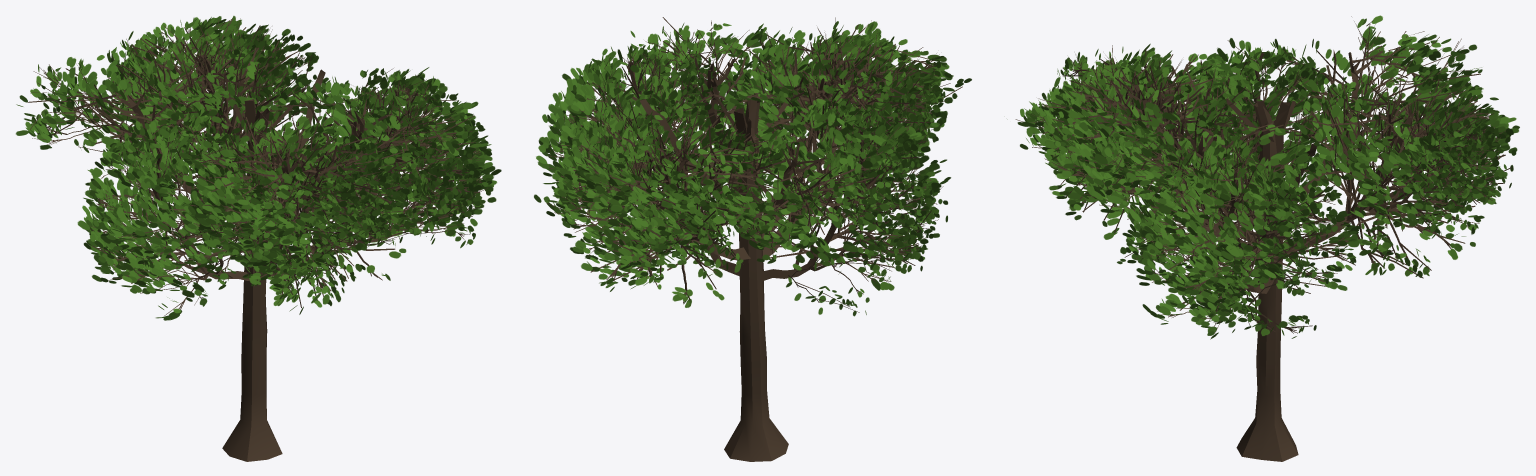
The picture shows the model from 3 angles, left to right: view 1: azimuth 30°, elevation 25°; view 2: azimuth 150°, elevation 25°; view 3: azimuth 270°, elevation 25°; orthographic projection. The views are drawn at different scales.
Visible parts, largest first — view 1: oak 01.001_trunk_Mat.001_0.018; view 2: oak 01.001_trunk_Mat.001_0.018; view 3: oak 01.001_trunk_Mat.001_0.018.
Part boxes in pixels (x1,y1,x2,y2): oak 01.001_trunk_Mat.001_0.018: [15, 16, 501, 461]; oak 01.001_trunk_Mat.001_0.018: [534, 17, 971, 461]; oak 01.001_trunk_Mat.001_0.018: [1007, 15, 1519, 461].
Size of the model in its own units: 4.59 by 3.82 by 4.86.
Materials: 2 (1 with a texture image).
